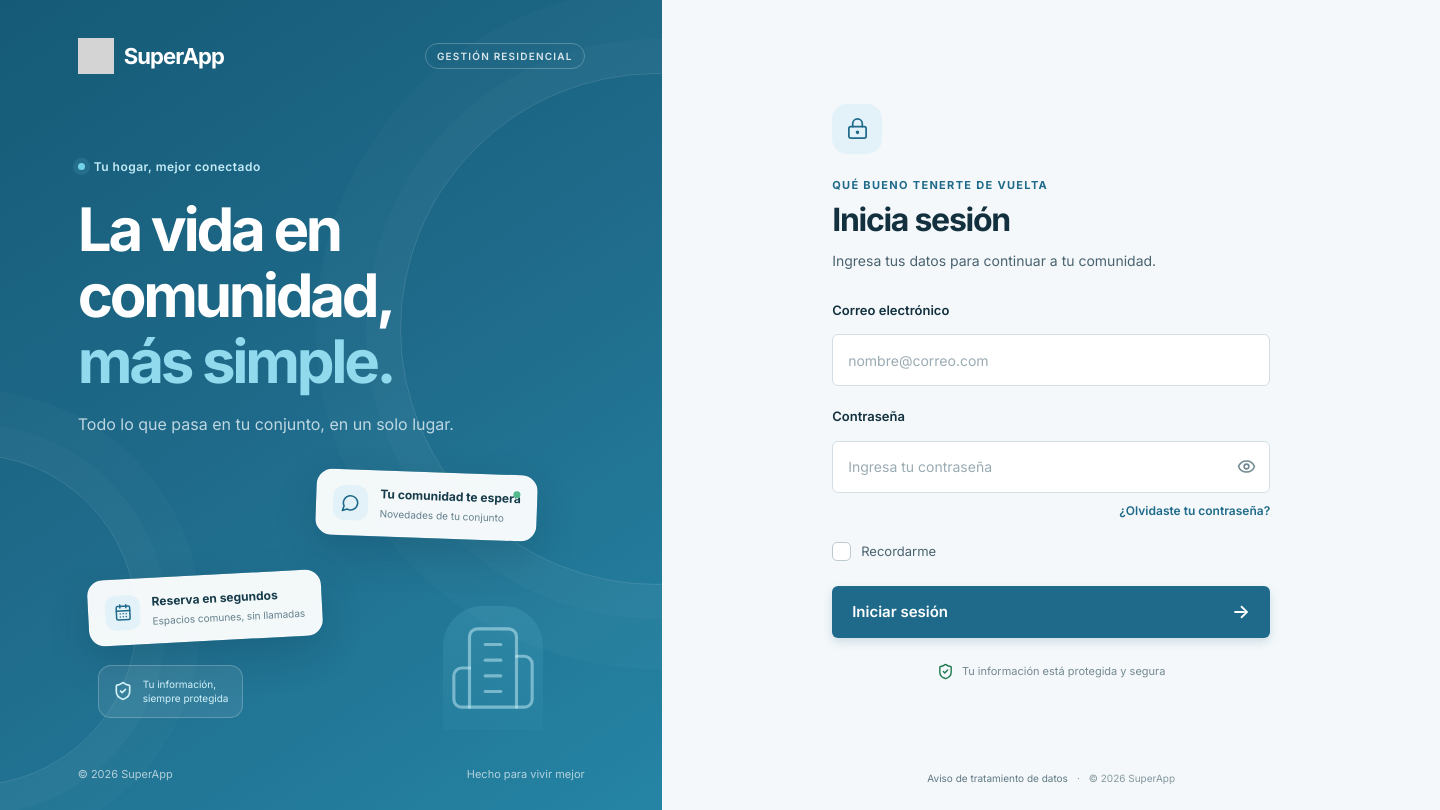
LoginPage › TC-AUTH-04 a 401 shows one generic message (no user enumeration) and stores no token
Step 1. Type "ana@demo.test" into the field labelled "Correo electrónico" → coordinates (1051, 360), box top-left (833, 335), bottom-right (1269, 385)
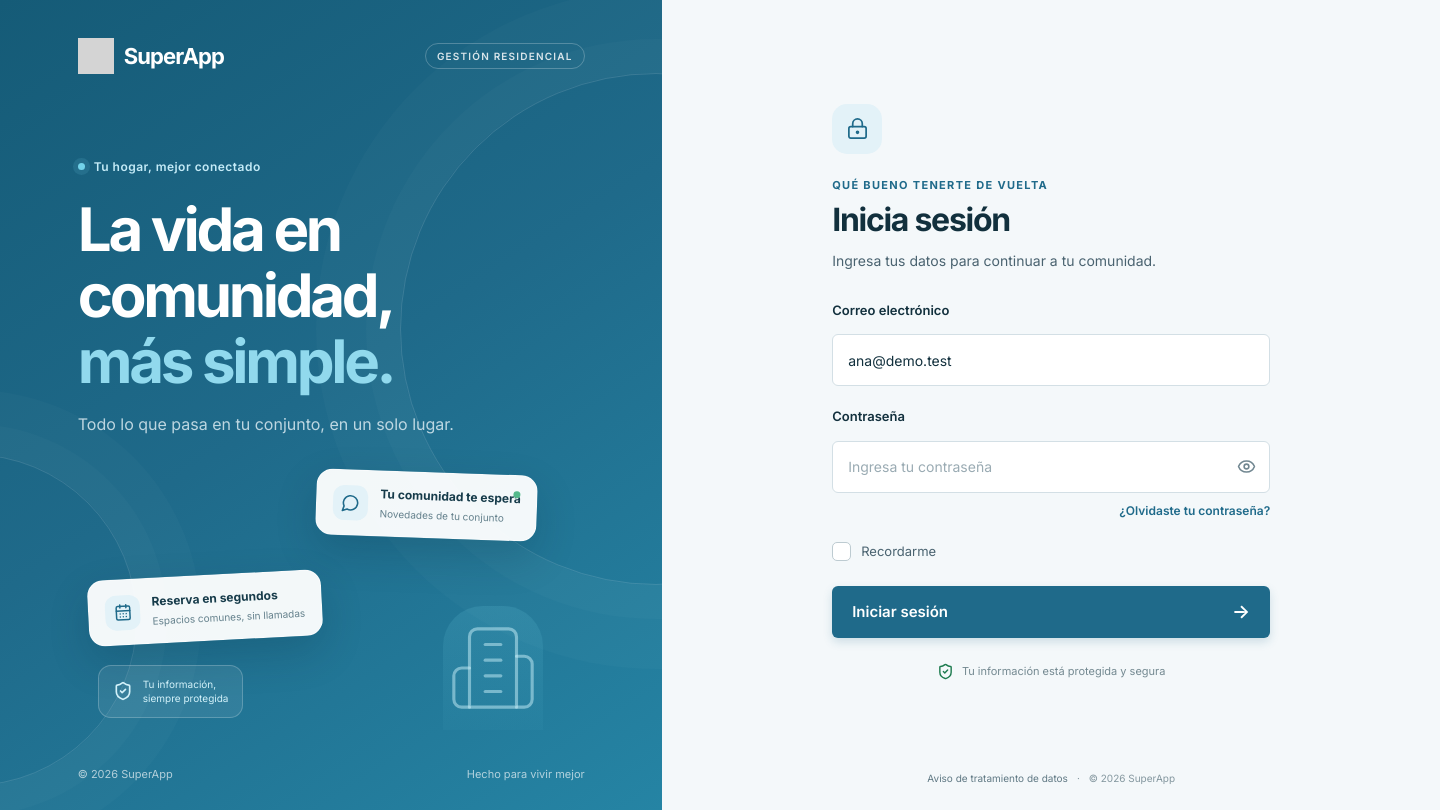
Step 2. Type "whatever" into the password field labelled "Contraseña" → coordinates (1028, 467), box top-left (833, 442), bottom-right (1223, 492)
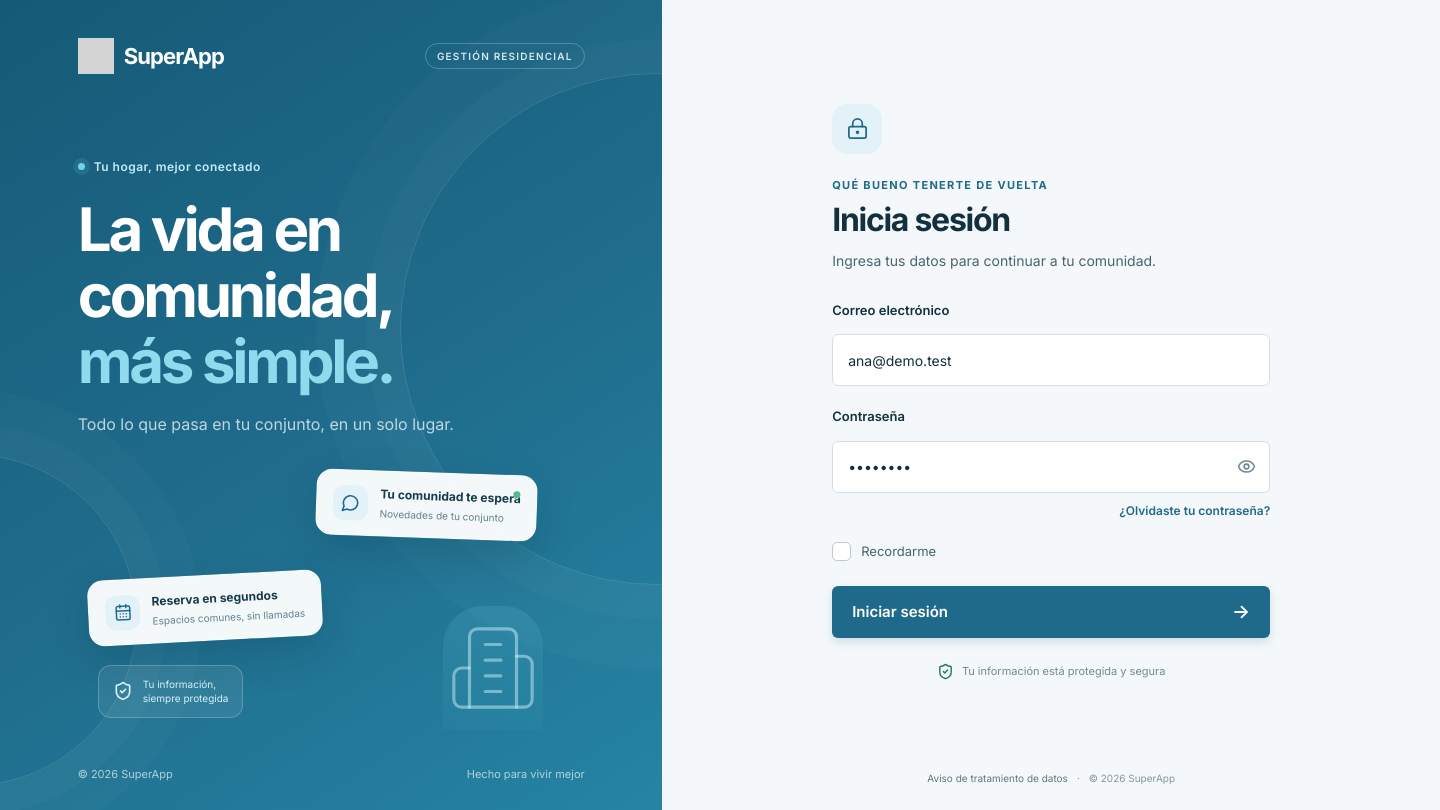
Step 3. Click the button "Iniciar sesión →" → coordinates (900, 611), box top-left (832, 586), bottom-right (1270, 638)
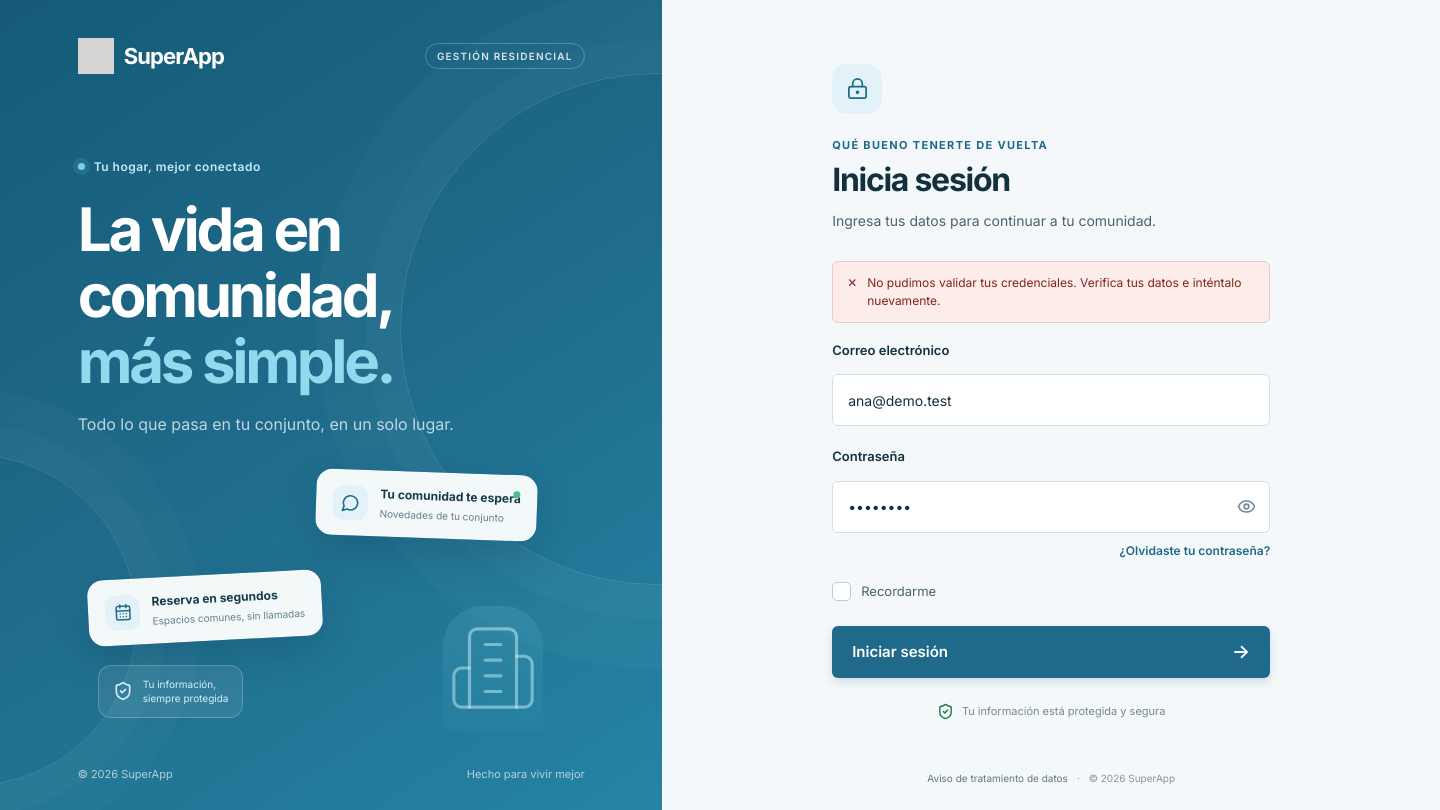
Now the message shows "No pudimos validar tus credenciales", box top-left (867, 275), bottom-right (1241, 308)
